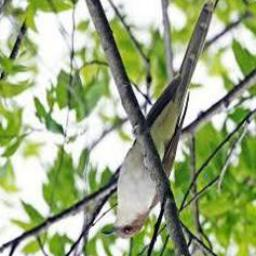Cuckoo: (100, 0, 214, 238)
